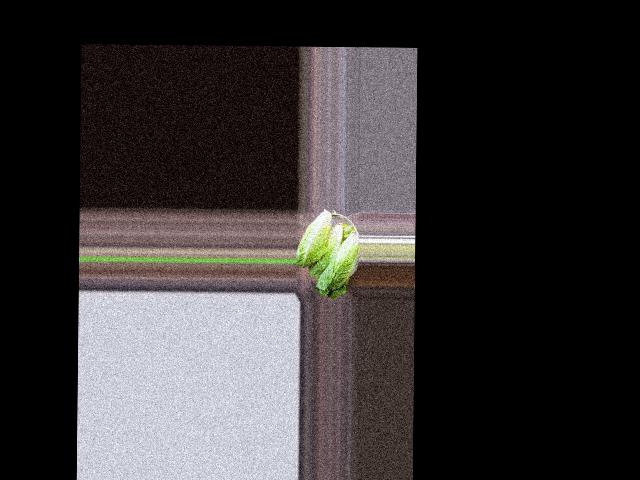lettuce: (314, 225, 359, 297)
